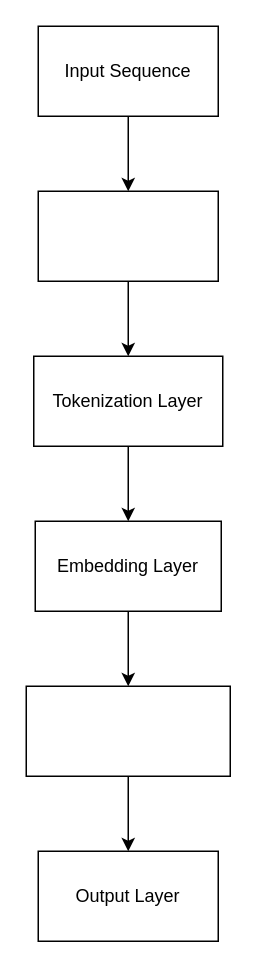
Some shapes in this 257 by 968 pixel diagram are drawn without their labels. Each missing label, with the centre of its shape:
"Fine-Tuned Model" belongs at point (127, 730).
"Pre-Processing" belongs at point (127, 235).
